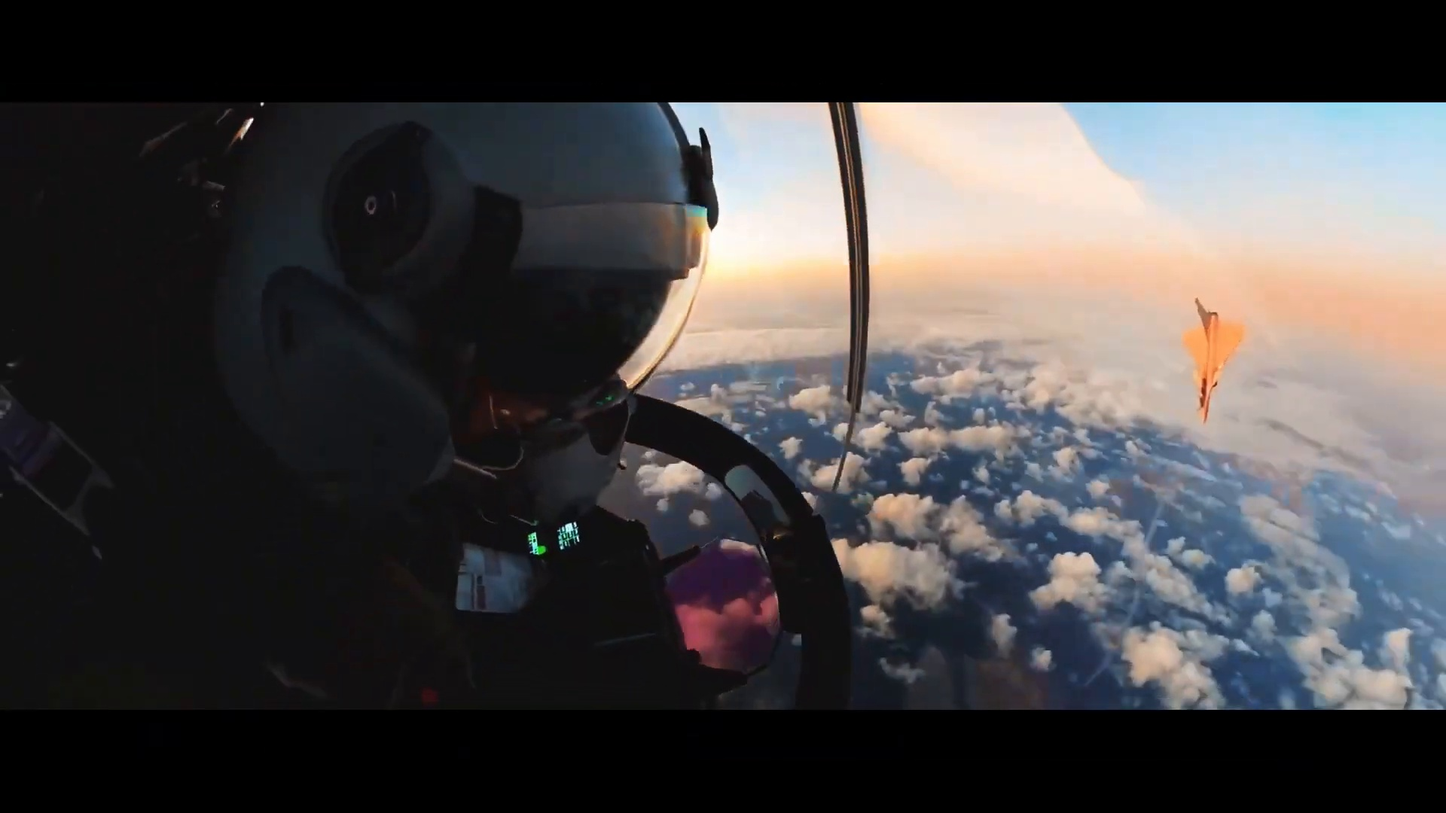Rafale: (1173, 292, 1255, 426)
